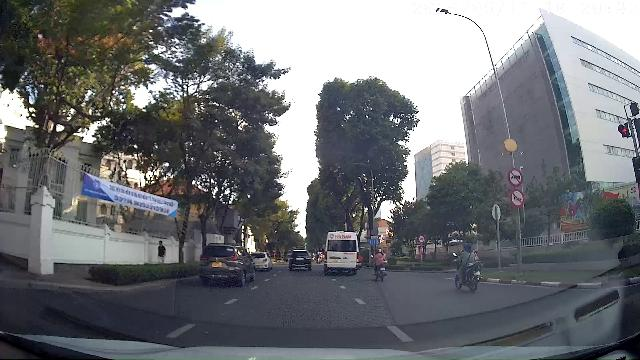128-cam-su-dung-coi: (509, 189, 525, 208)
